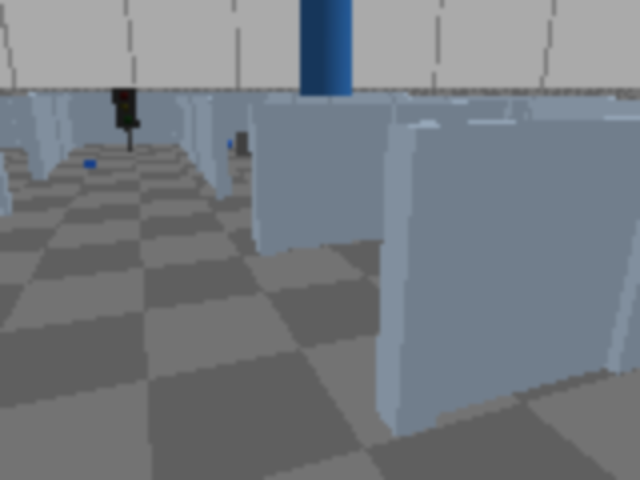traffic_light: (112, 85, 141, 152)
